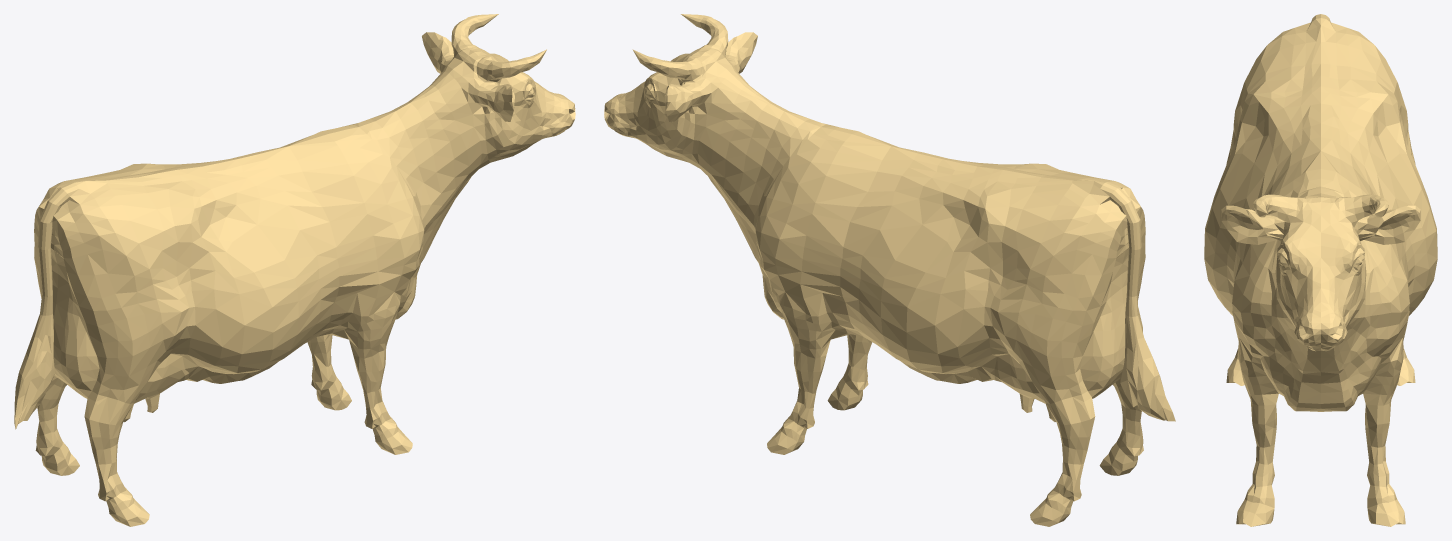
The model's file is cow.gltf.
3 views of the same model, side by side, from view 1: azimuth 30°, elevation 25°; view 2: azimuth 150°, elevation 25°; view 3: azimuth 270°, elevation 25° (orthographic). The views are drawn at different scales.
Bounding box in the file's own units: 10.44 × 6.4 × 3.4.
